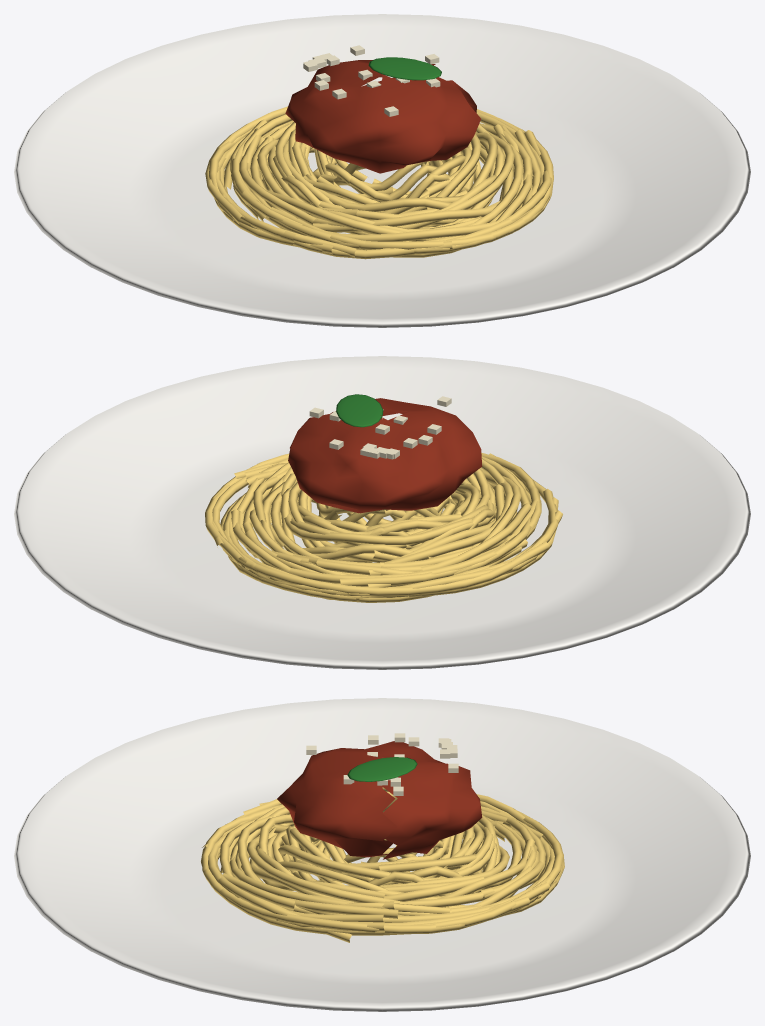
Rendered from spaghetti.glb.
3 views of the same model, one above another, from view 1: azimuth 30°, elevation 25°; view 2: azimuth 150°, elevation 25°; view 3: azimuth 270°, elevation 25° (orthographic).
Parts seen in each view (by area): view 1: spaghetti; view 2: spaghetti; view 3: spaghetti.
Boxes of the visible parts, x1=… form: spaghetti: x1=14, y1=14, x2=750, y2=327; spaghetti: x1=14, y1=356, x2=750, y2=669; spaghetti: x1=14, y1=698, x2=750, y2=1011.
Bounding box in the file's own units: 0.28 × 0.0621 × 0.28.
